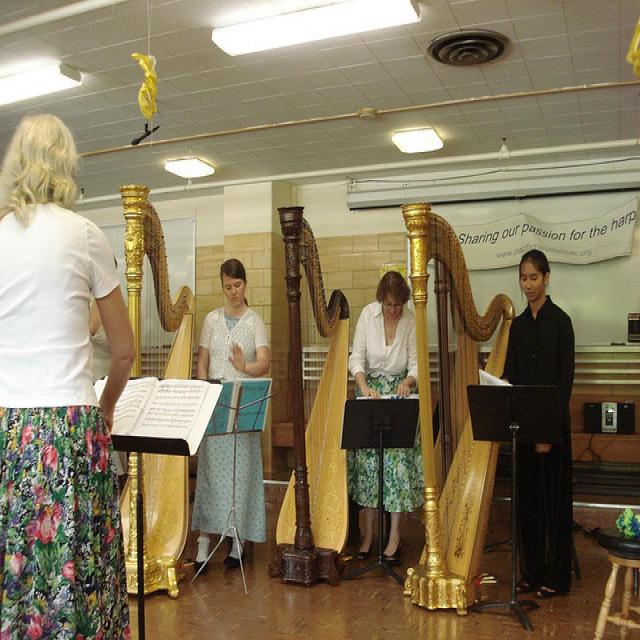harp: (397, 197, 517, 618), (117, 182, 204, 613), (264, 199, 353, 592)
